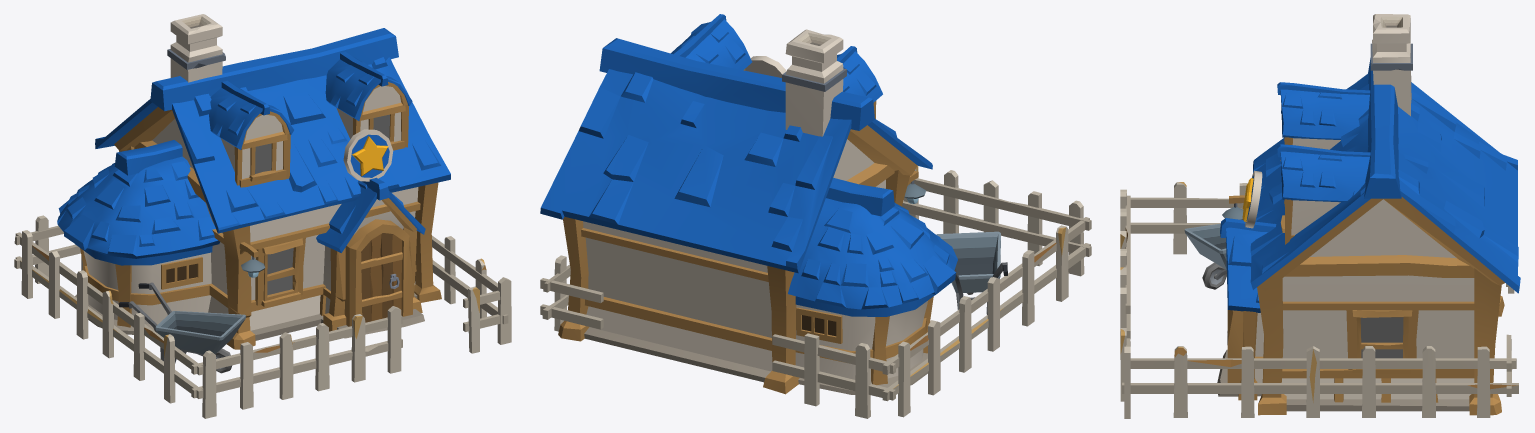
File: Build_Home02.FBX
3 views of the same model, side by side, from view 1: azimuth 30°, elevation 25°; view 2: azimuth 150°, elevation 25°; view 3: azimuth 270°, elevation 25° (orthographic). The views are drawn at different scales.
Parts seen in each view (by area): view 1: Build_Home02; view 2: Build_Home02; view 3: Build_Home02.
Boxes of the visible parts, x1,y1,x2,y2 form: Build_Home02: (14,14,511,418); Build_Home02: (540,14,1091,418); Build_Home02: (1120,14,1520,418).
Size of the model in its own units: 535 by 441 by 539.
